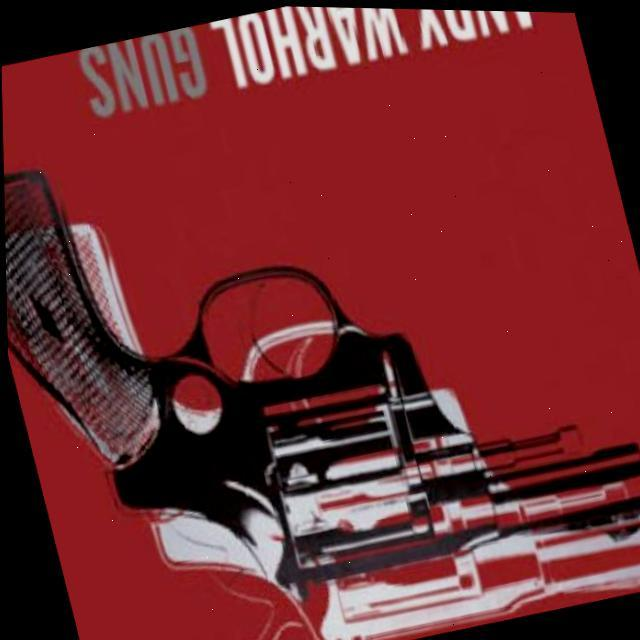gun: (1, 45, 640, 640), (2, 94, 640, 640)
